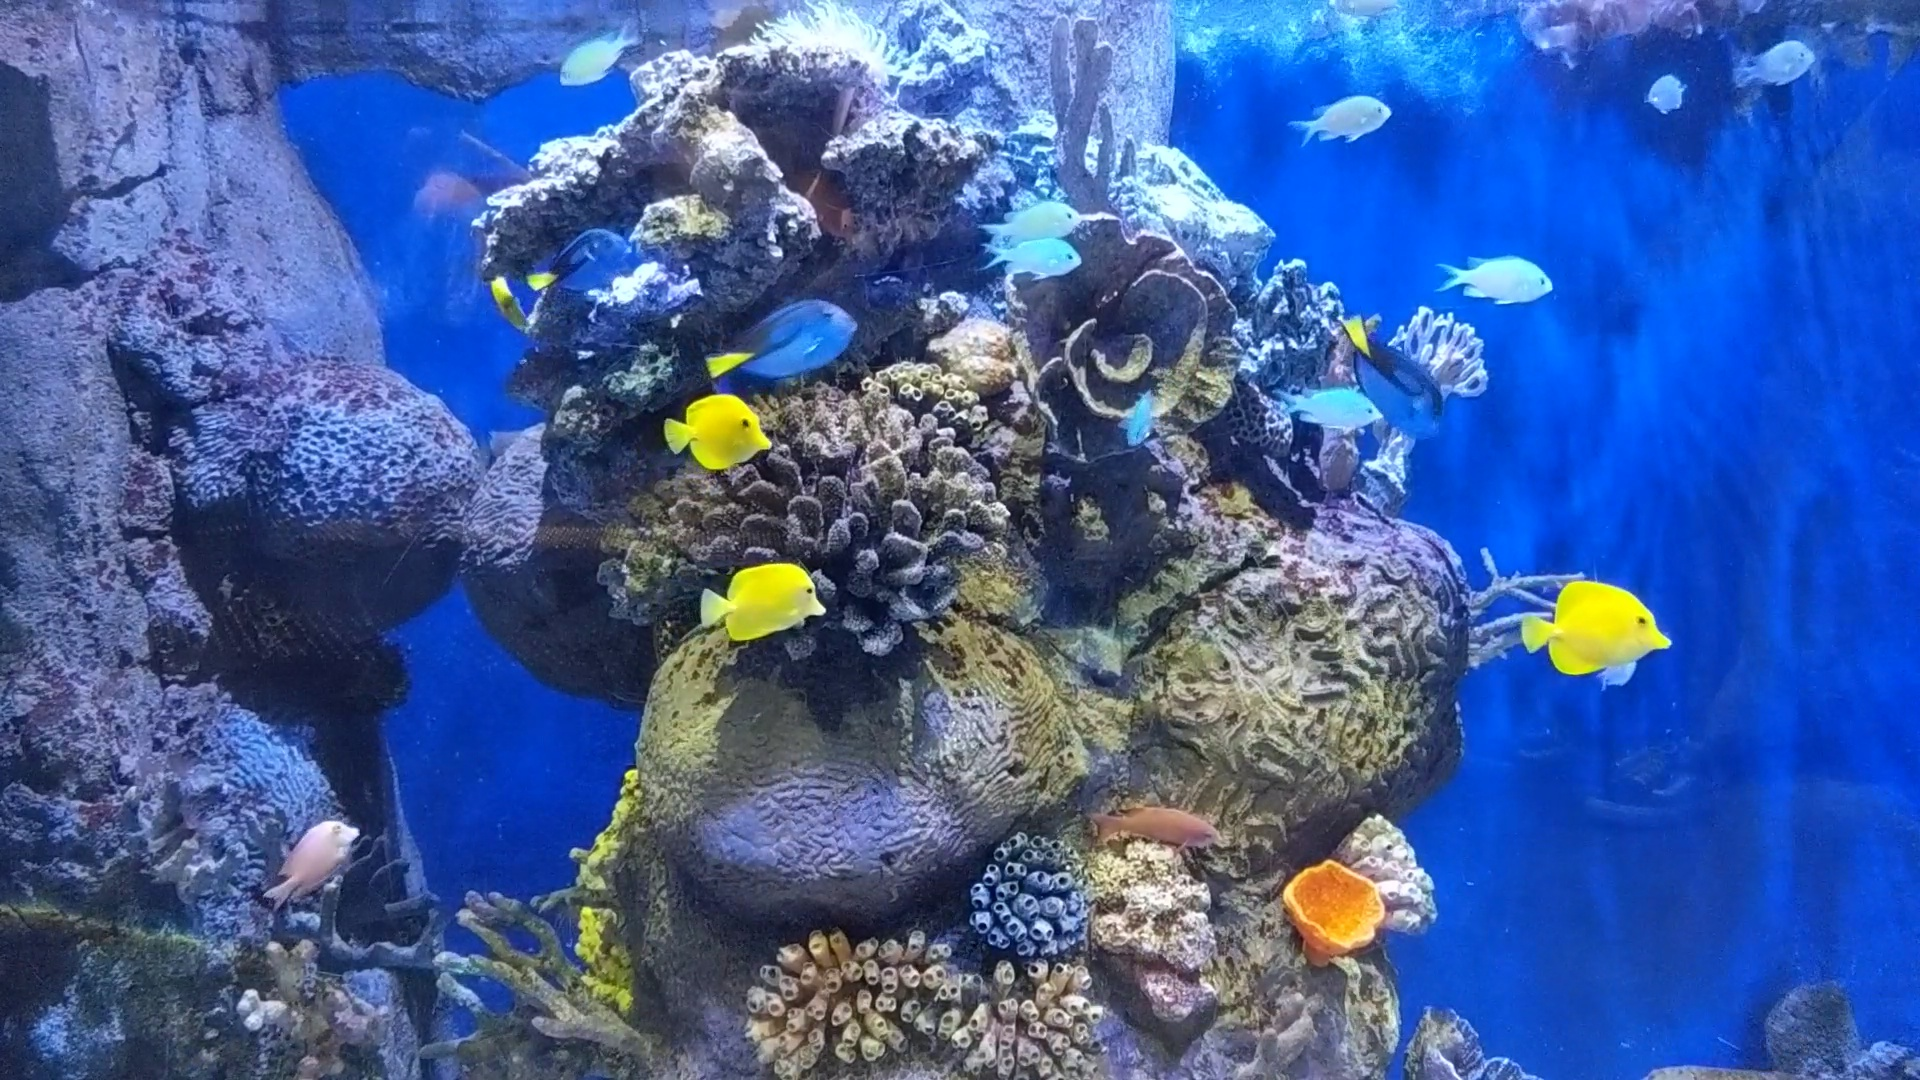blue tang surgeonfish: (1337, 306, 1451, 446), (702, 293, 864, 378), (530, 220, 636, 295)
damselfish: (1433, 244, 1559, 311), (1286, 88, 1396, 152), (1262, 381, 1382, 439), (559, 22, 637, 98), (971, 196, 1083, 248), (1735, 32, 1824, 88), (978, 237, 1088, 278), (1116, 378, 1168, 452), (1640, 69, 1693, 121), (615, 17, 645, 22)
saddle butterfly fish: (1514, 578, 1673, 696), (698, 551, 832, 641), (661, 394, 773, 475), (483, 264, 527, 339)
